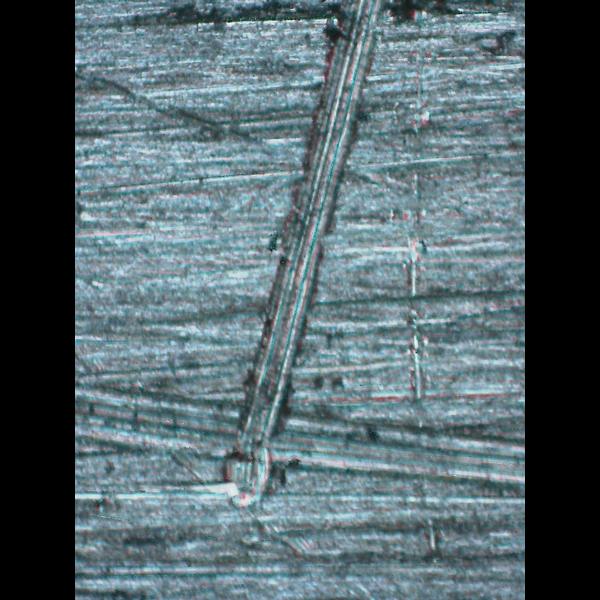d: (210, 0, 421, 518)
